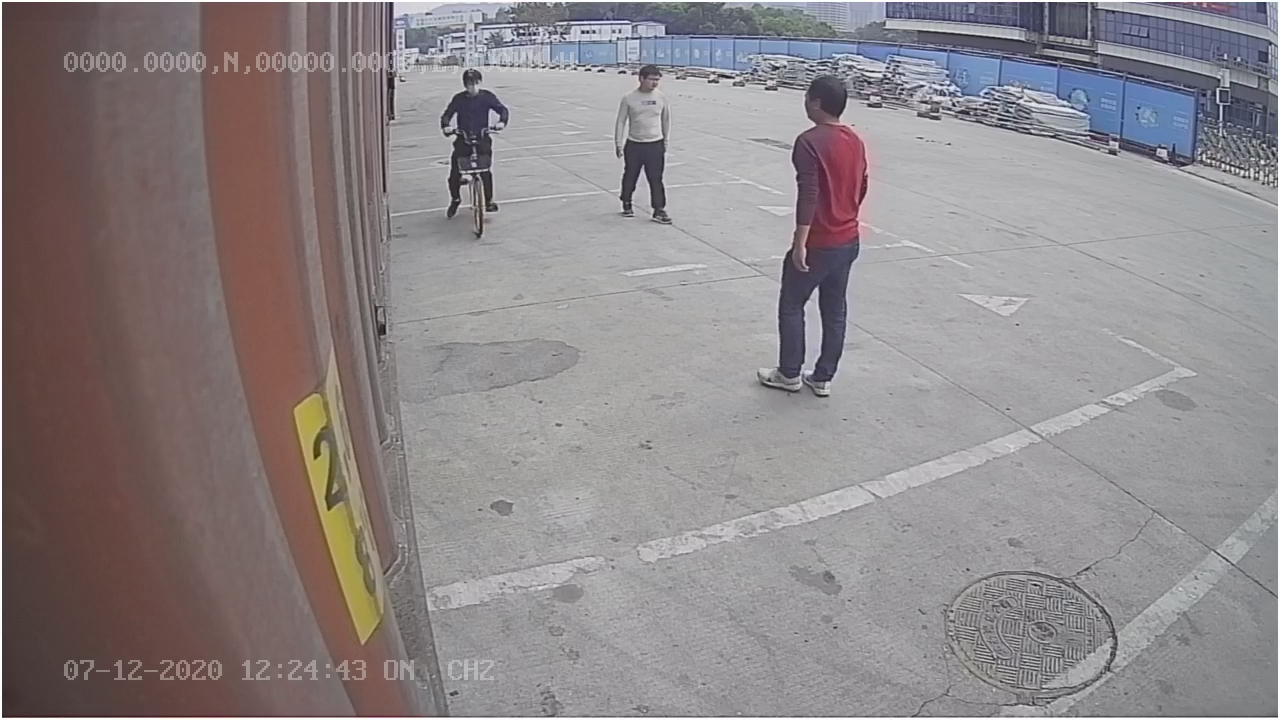person: (753, 71, 879, 397), (605, 64, 681, 226)
